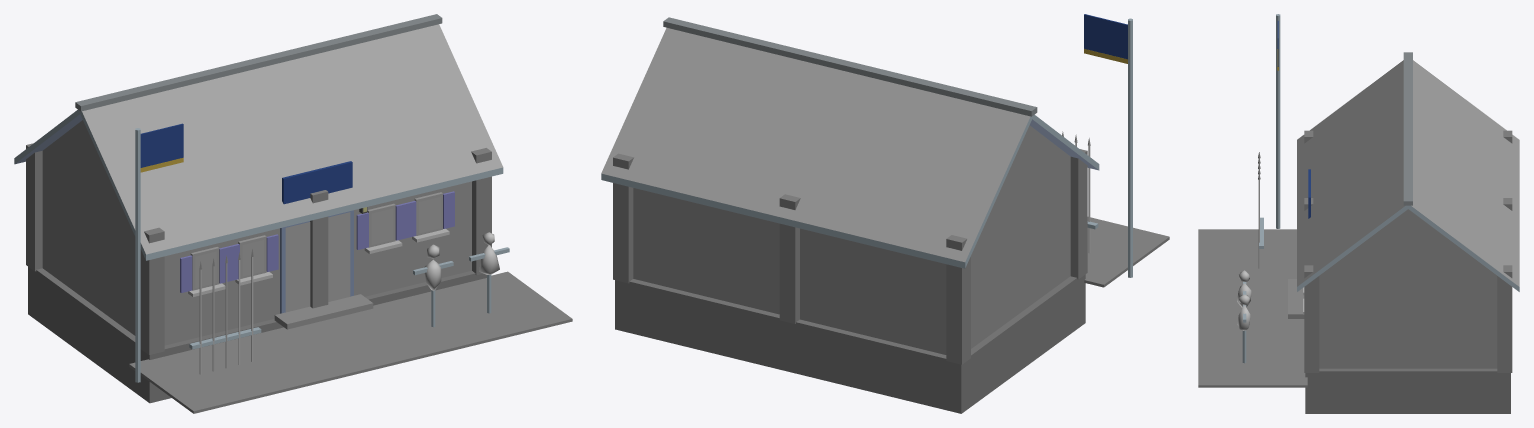
The model's file is site_kaserne.glb.
3 views of the same model, side by side, from view 1: azimuth 30°, elevation 25°; view 2: azimuth 150°, elevation 25°; view 3: azimuth 270°, elevation 25° (orthographic). The views are drawn at different scales.
Parts seen in each view (by area): view 1: site_kaserne; view 2: site_kaserne; view 3: site_kaserne.
Part boxes in pixels (x1,y1,x2,y2): site_kaserne: [14, 14, 572, 413]; site_kaserne: [601, 14, 1169, 413]; site_kaserne: [1198, 14, 1519, 413].
Size of the model in its own units: 9.06 by 6.5 by 7.65.
